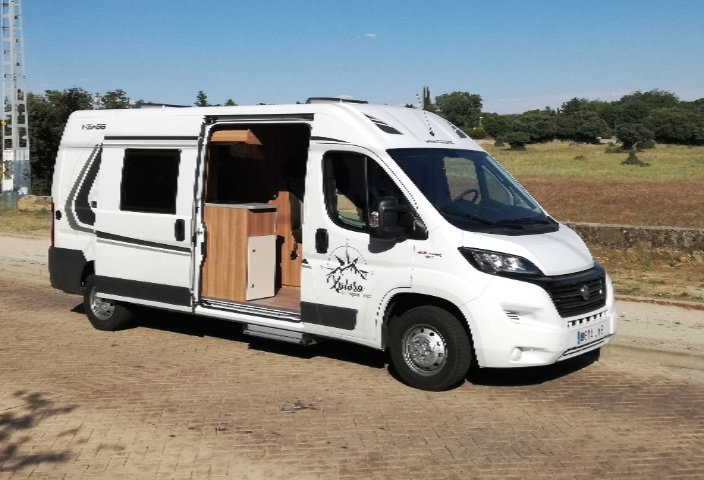van: (36, 90, 627, 395)
